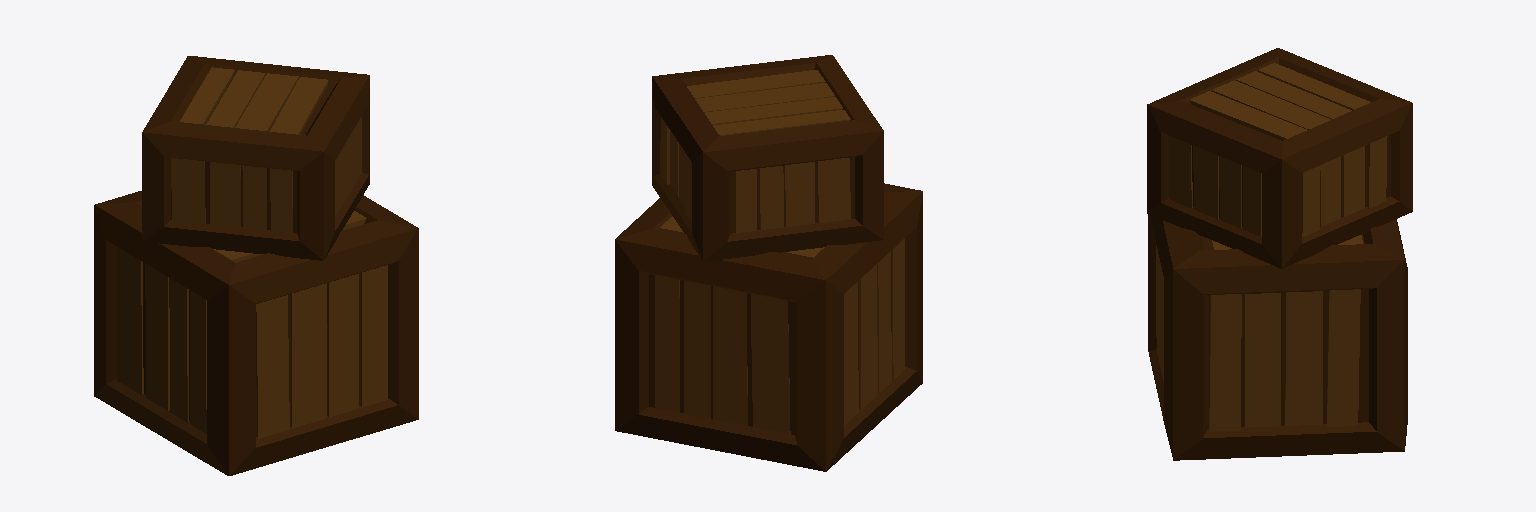
Rendered from Crate_Stack1_Cube.obj.
3 views of the same model, side by side, from view 1: azimuth 30°, elevation 25°; view 2: azimuth 150°, elevation 25°; view 3: azimuth 270°, elevation 25° (orthographic).
Visible parts, largest first — view 1: Crate_Stack1_Cube.201; view 2: Crate_Stack1_Cube.201; view 3: Crate_Stack1_Cube.201.
Part boxes in pixels (x1,y1,x2,y2): Crate_Stack1_Cube.201: (94,56,418,475); Crate_Stack1_Cube.201: (615,55,922,471); Crate_Stack1_Cube.201: (1147,48,1412,460).
Size of the model in its own units: 0.1208 by 0.1573 by 0.1208.